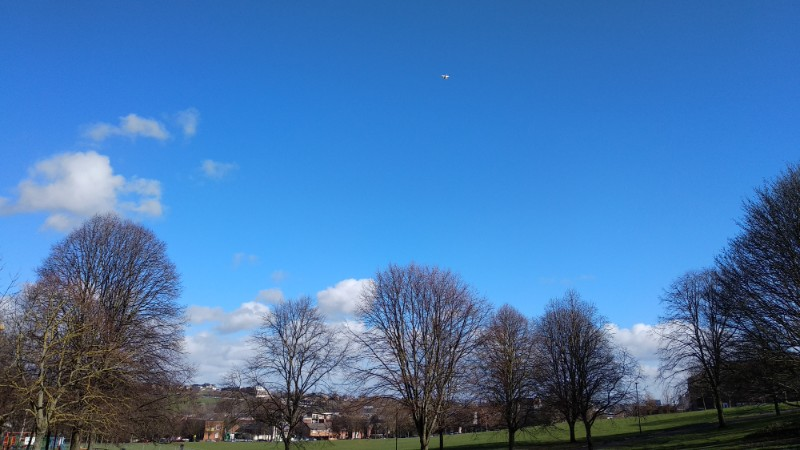drone: (440, 71, 451, 81)
